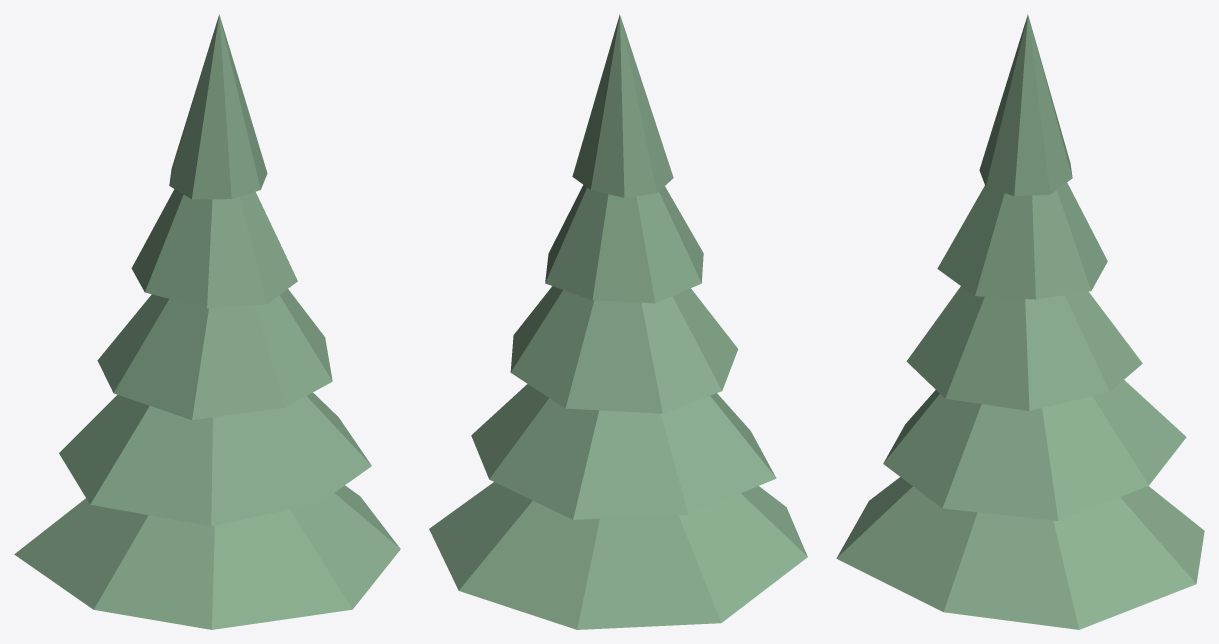
File: fir-a.glb
3 views of the same model, side by side, from view 1: azimuth 30°, elevation 25°; view 2: azimuth 150°, elevation 25°; view 3: azimuth 270°, elevation 25° (orthographic).
Parts seen in each view (by area): view 1: fir-a; view 2: fir-a; view 3: fir-a.
Part boxes in pixels (<box>): fir-a: <box>14,14,400,629</box>; fir-a: <box>429,14,807,629</box>; fir-a: <box>836,14,1204,629</box>.
Size of the model in its own units: 4.65 by 8.19 by 4.63.
